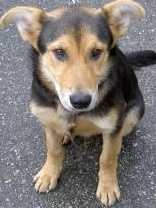dog: (3, 0, 141, 157)
